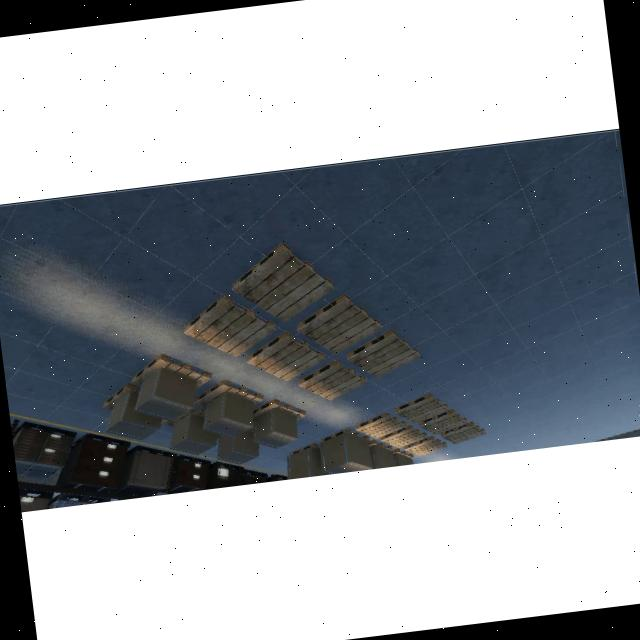wooden_pallet: (232, 241, 333, 321), (183, 293, 275, 356), (296, 293, 382, 355), (246, 331, 326, 382), (345, 328, 420, 377), (131, 353, 211, 388), (298, 359, 366, 399), (194, 379, 263, 406), (394, 393, 449, 423), (355, 411, 407, 438), (253, 398, 306, 420), (319, 428, 369, 443)
